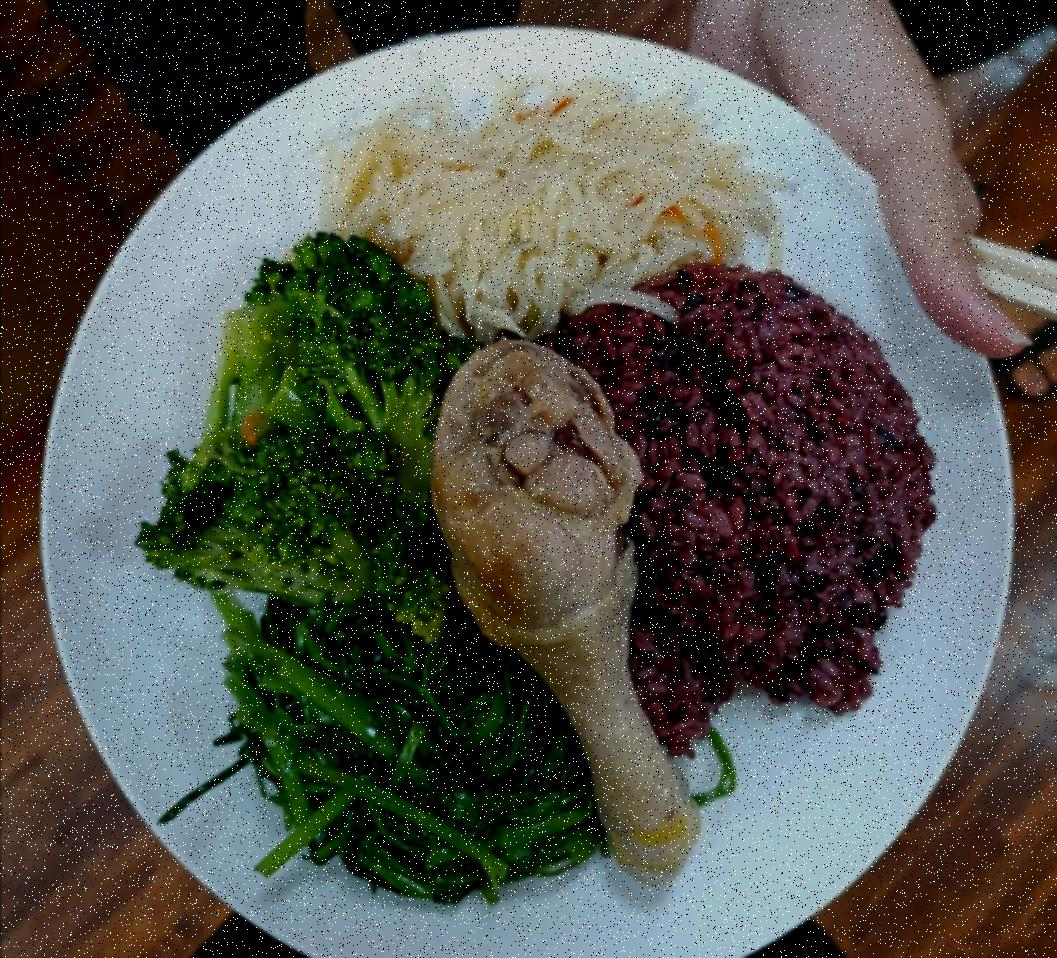plate: (19, 20, 1034, 958)
purple rice: (558, 276, 925, 734)
side dish: (136, 226, 463, 643), (220, 590, 610, 910), (346, 70, 760, 322)
small herbal chicken leg: (420, 336, 728, 887)
